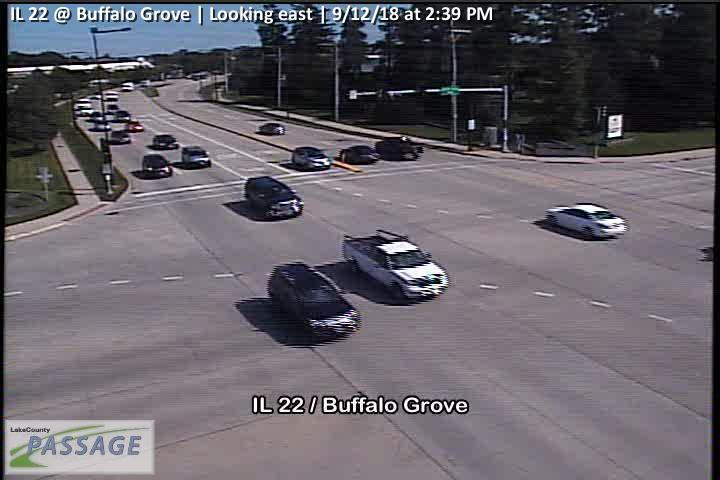SUV: (268, 260, 360, 339), (244, 176, 302, 217)
Sedan: (545, 200, 627, 241), (375, 135, 423, 161), (292, 145, 332, 170), (179, 144, 213, 169), (143, 152, 172, 178), (339, 146, 379, 164), (152, 133, 179, 151), (259, 121, 287, 135)
Truck: (343, 229, 448, 300)
